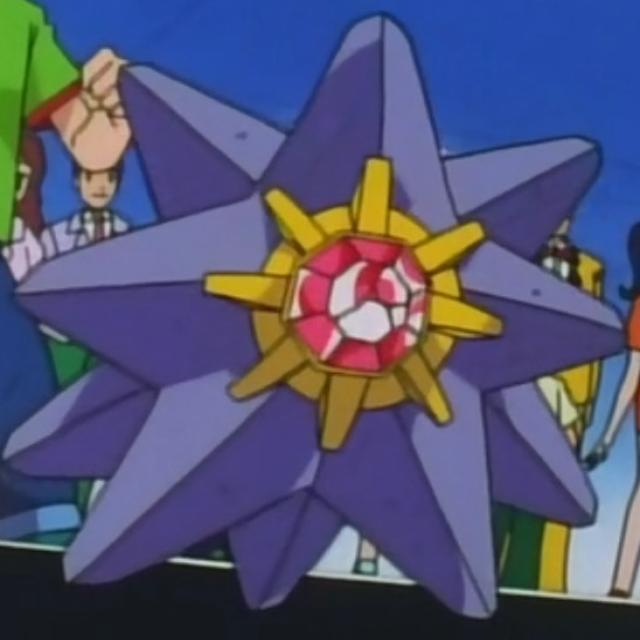Starmie: (55, 54, 602, 612)
